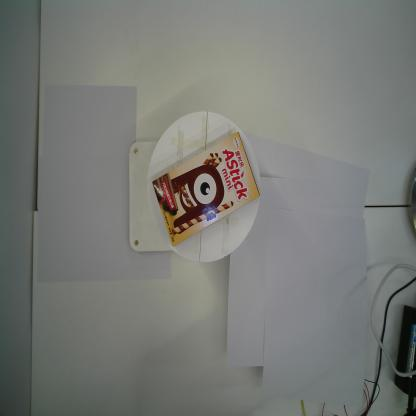Dessert: (151, 127, 262, 250)
